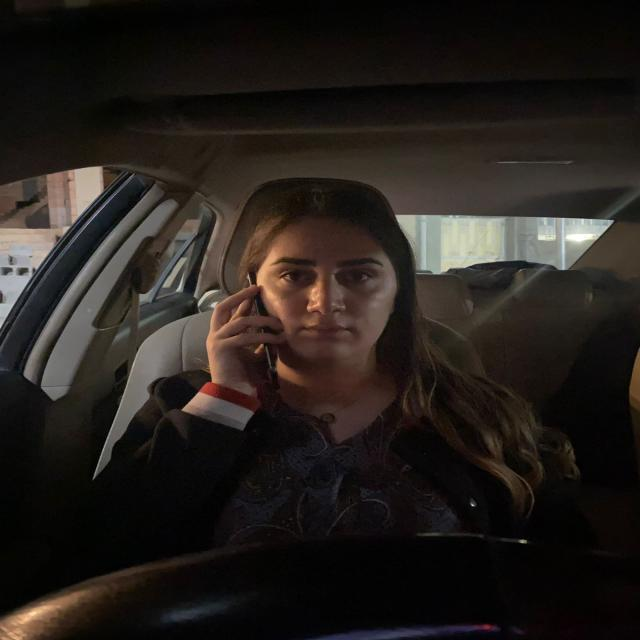phone: (243, 265, 283, 389)
